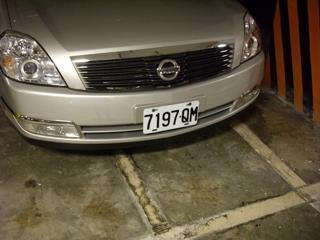plate: (142, 100, 200, 131)
